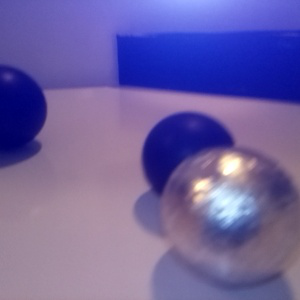alive_ball: (161, 147, 300, 287)
dead_ball: (143, 112, 235, 205), (1, 63, 47, 156)
